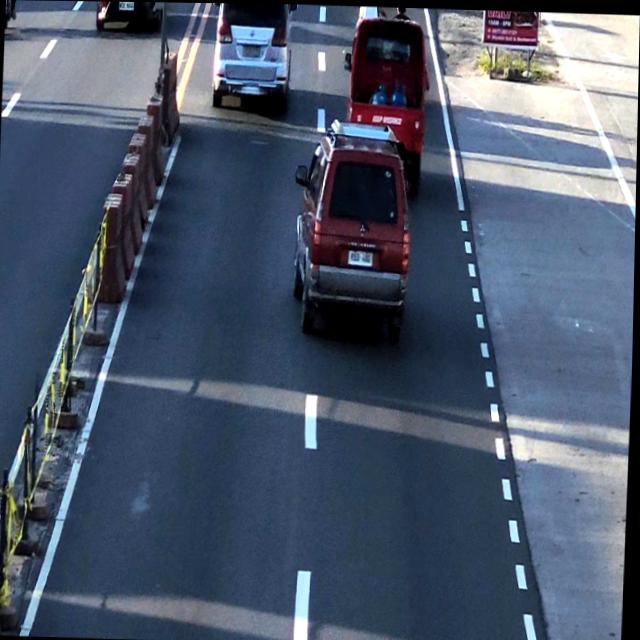Car: (292, 118, 412, 348), (345, 10, 433, 127), (208, 2, 294, 112)
License-Plate: (347, 248, 372, 270), (241, 40, 262, 62)
